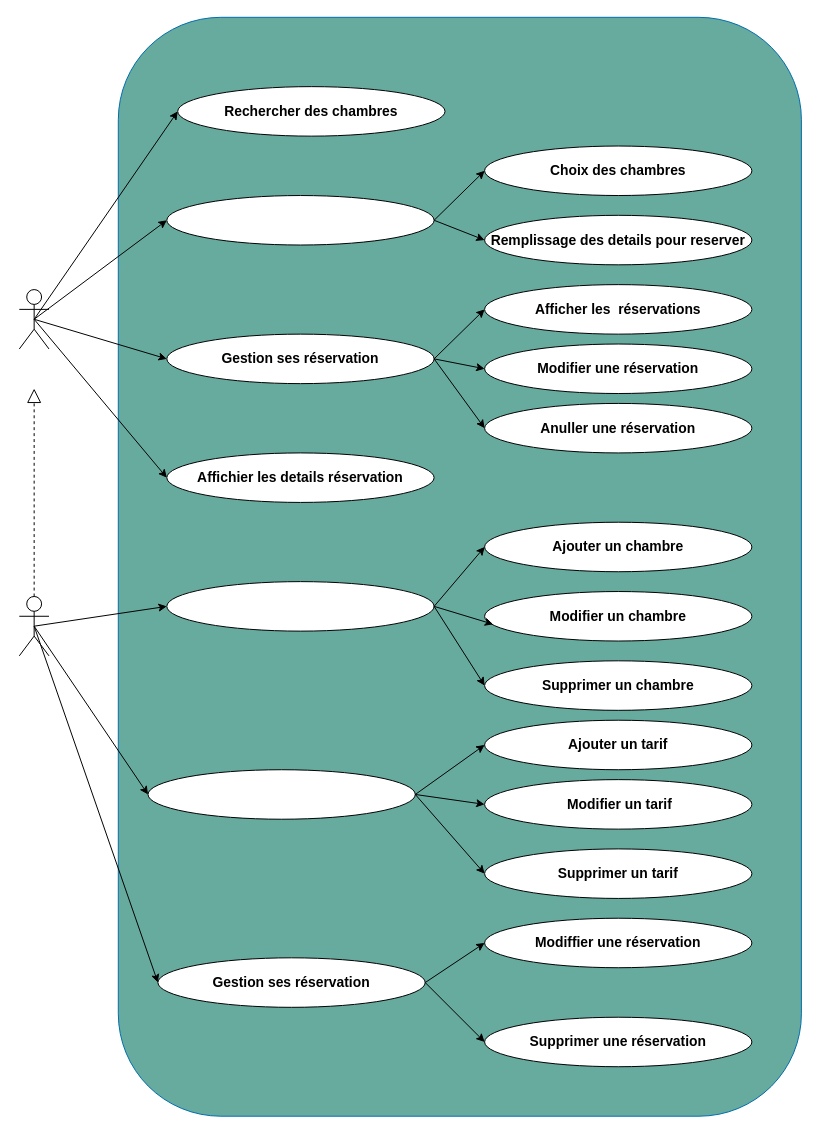
This 819x1134 diagram has some shape labels left out. The shapes that lost their labels are listed below. From the top down, each one's centre as x and y in pixels, then its label:
(x=300, y=220): Effectuer une réservation
(x=33, y=319): User
(x=33, y=625): Admin
(x=300, y=606): gestion des chambres
(x=281, y=794): gestion des tarifs
